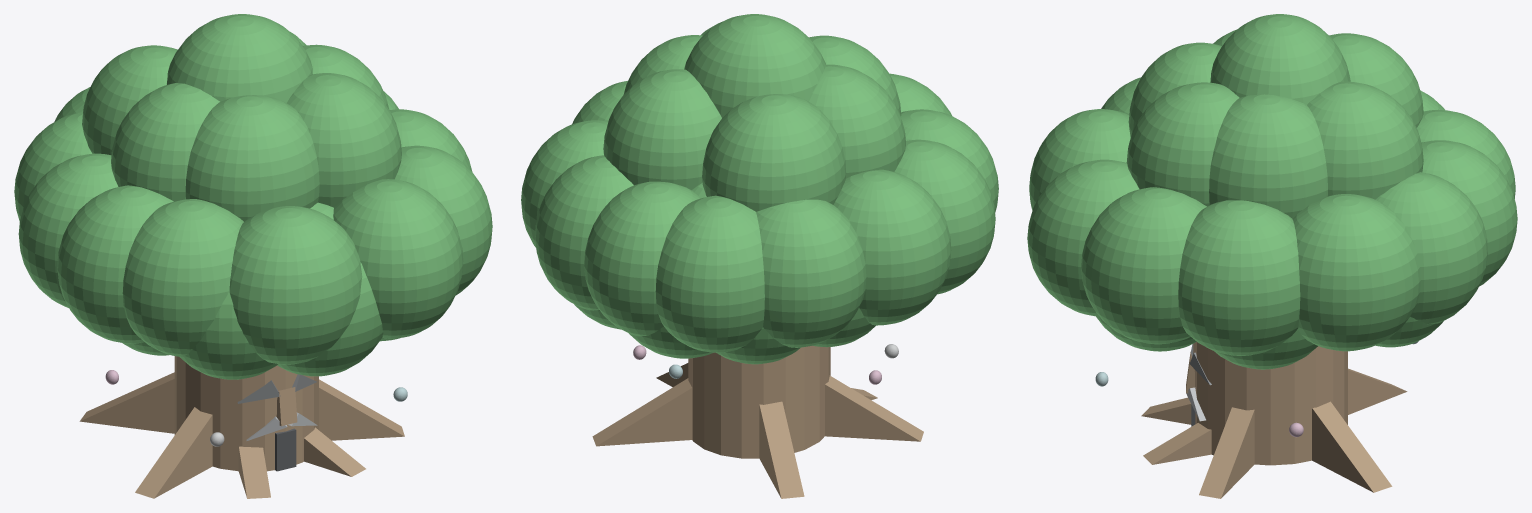
Rendered from deku.glb.
The picture shows the model from 3 angles, left to right: view 1: azimuth 30°, elevation 25°; view 2: azimuth 150°, elevation 25°; view 3: azimuth 270°, elevation 25°; orthographic projection.
Parts seen in each view (by area): view 1: Mesh_Mesh_head_geo.001_lambert2SG.001; view 2: Mesh_Mesh_head_geo.001_lambert2SG.001; view 3: Mesh_Mesh_head_geo.001_lambert2SG.001.
Boxes of the visible parts, x1=… form: Mesh_Mesh_head_geo.001_lambert2SG.001: x1=14, y1=14, x2=492, y2=498; Mesh_Mesh_head_geo.001_lambert2SG.001: x1=521, y1=14, x2=998, y2=498; Mesh_Mesh_head_geo.001_lambert2SG.001: x1=1027, y1=14, x2=1517, y2=498.
Size of the model in its own units: 254 by 248 by 266.
